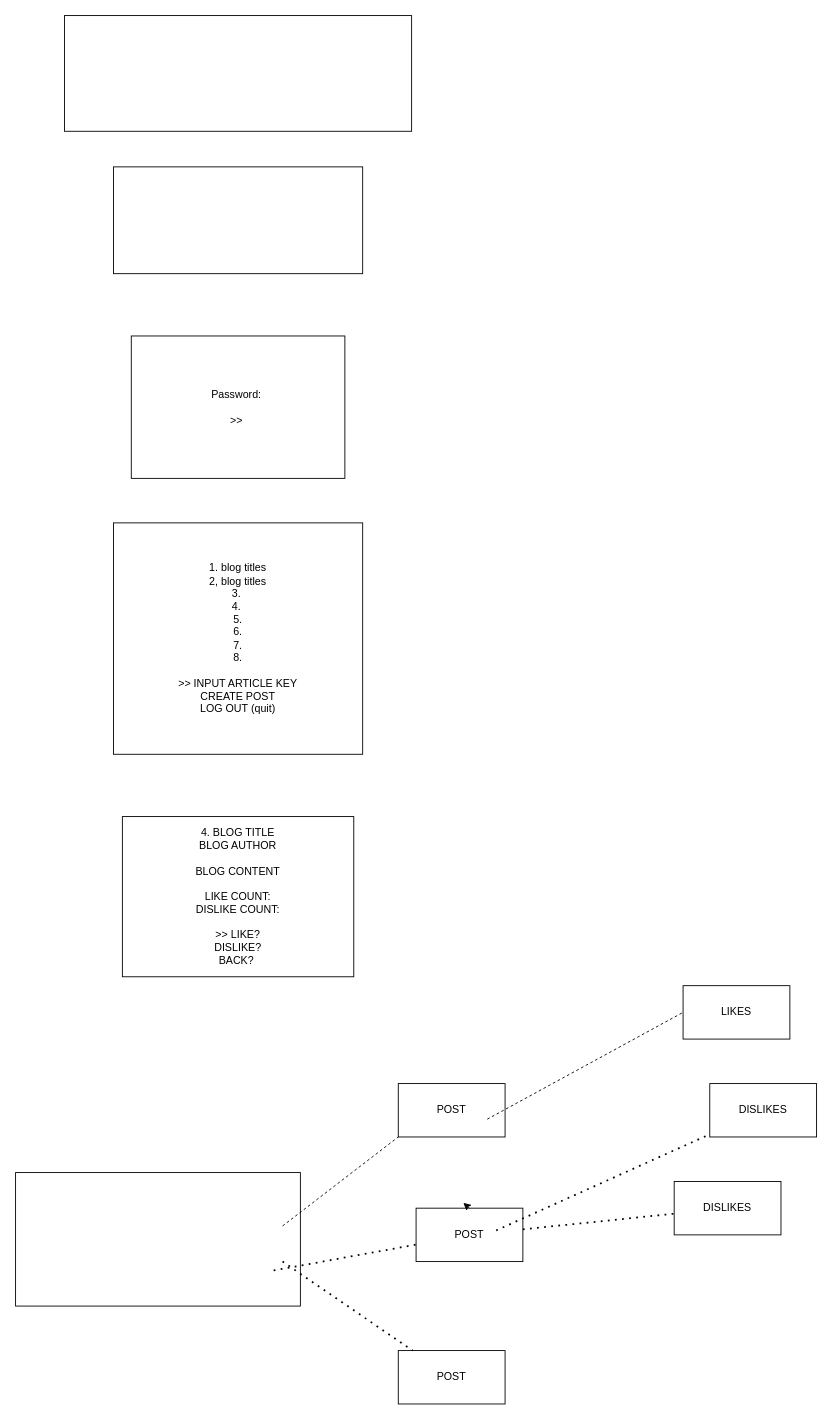
Image size: 832x1420. Some labels were removed from this diagram. The box of each missing label's shape, as (x1, y1, x2, y2) in pixels:
USER: (15, 1172, 300, 1306)
User Login or New User? >> New User: (64, 15, 412, 131)
User Login Username: >>: (113, 166, 363, 274)
